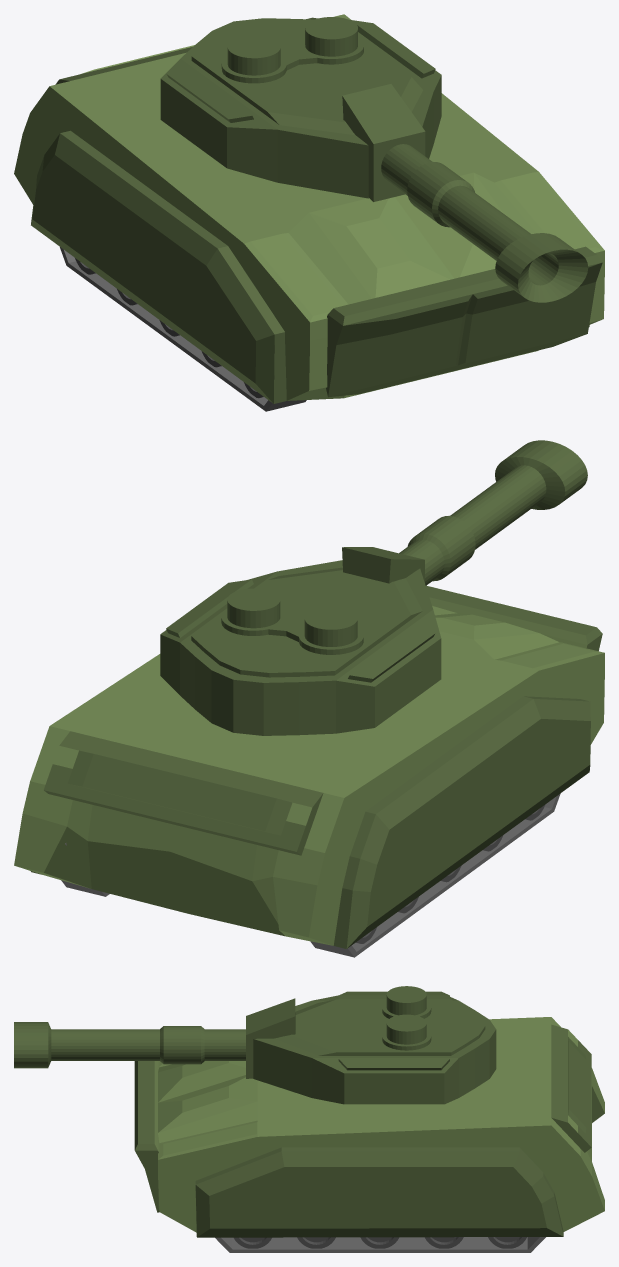
The model's file is tier3.fbx.
3 renders of one model, top to bottom at view 1: azimuth 30°, elevation 25°; view 2: azimuth 150°, elevation 25°; view 3: azimuth 270°, elevation 25°, orthographic. The views are drawn at different scales.
Visible parts, largest first — view 1: Body3, Turret3, Main Gun3, Tracks3, Road Wheels3; view 2: Body3, Turret3, Main Gun3, Tracks3; view 3: Body3, Turret3, Main Gun3, Tracks3, Road Wheels3.
Part boxes in pixels (x1,y1,x2,y2): Body3: (14,14,604,403); Turret3: (160,17,441,198); Main Gun3: (342,84,588,302); Tracks3: (60,247,306,411); Road Wheels3: (75,258,263,398); Body3: (14,585,604,948); Turret3: (160,560,441,735); Main Gun3: (342,440,587,585); Tracks3: (61,793,560,957); Body3: (134,1017,604,1237); Turret3: (253,986,496,1104); Main Gun3: (14,998,295,1078); Tracks3: (215,1237,545,1252); Road Wheels3: (234,1237,526,1248).
Bounding box in the file's own units: 409 × 298 × 828.
